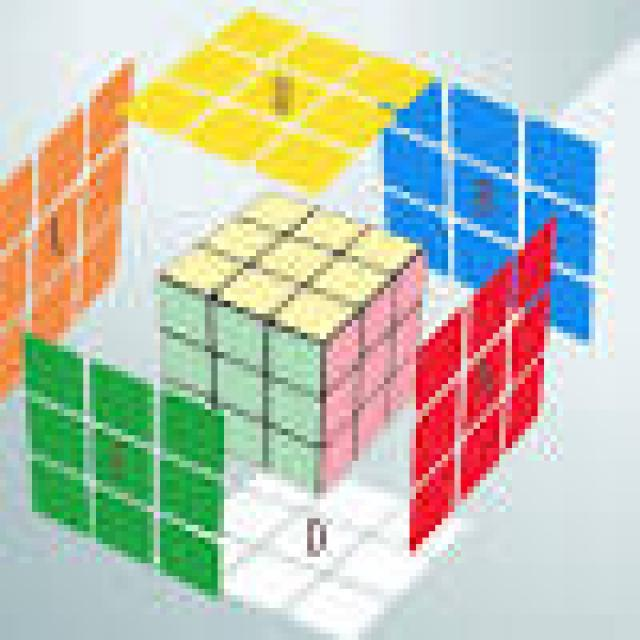Rub: (2, 9, 604, 620)
